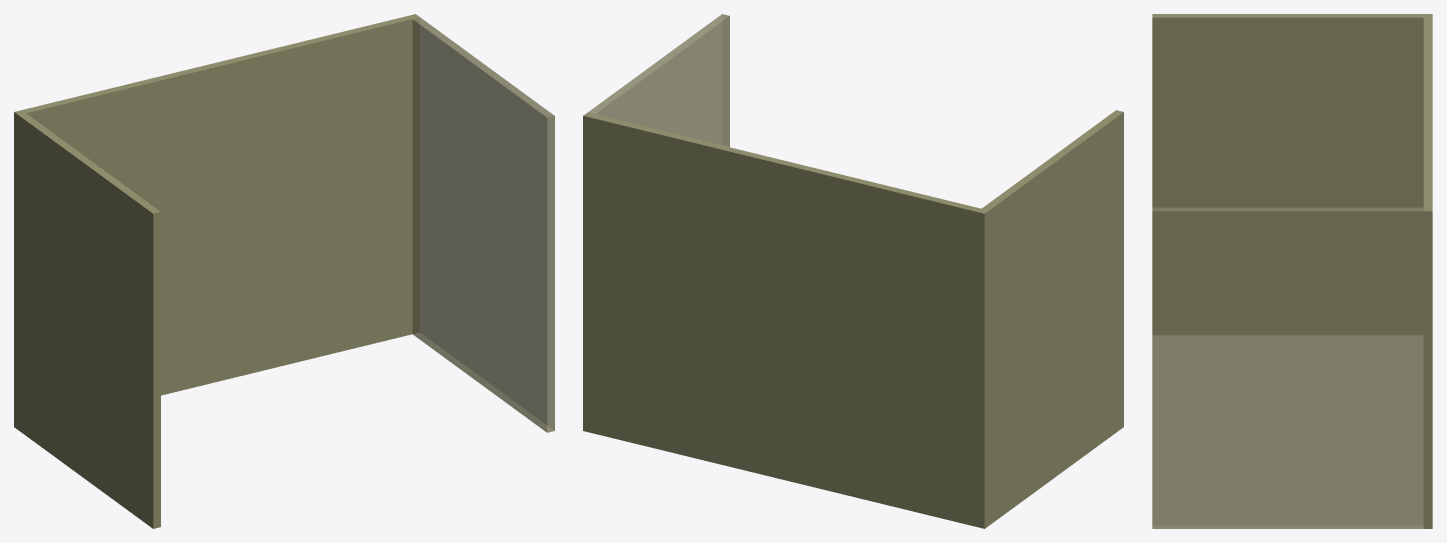
File: TestGltf4Transparency.dae
3 renders of one model, left to right at view 1: azimuth 30°, elevation 25°; view 2: azimuth 150°, elevation 25°; view 3: azimuth 270°, elevation 25°, orthographic.
Visible parts, largest first — view 1: {9B914EC8-FF25-4add-834C-FE20E21041BC}_Node, {A38A591F-DD13-4cbc-A842-138965274C72}_Node, {E1248EB0-9B30-49e5-A715-3F4185C9F774}_Node; view 2: {9B914EC8-FF25-4add-834C-FE20E21041BC}_Node, {A38A591F-DD13-4cbc-A842-138965274C72}_Node, {E1248EB0-9B30-49e5-A715-3F4185C9F774}_Node; view 3: {E1248EB0-9B30-49e5-A715-3F4185C9F774}_Node, {A38A591F-DD13-4cbc-A842-138965274C72}_Node, {9B914EC8-FF25-4add-834C-FE20E21041BC}_Node.
Part boxes in pixels (x1,y1,x2,y2): {9B914EC8-FF25-4add-834C-FE20E21041BC}_Node: (14,14,419,429); {A38A591F-DD13-4cbc-A842-138965274C72}_Node: (14,110,160,528); {E1248EB0-9B30-49e5-A715-3F4185C9F774}_Node: (411,14,554,432); {9B914EC8-FF25-4add-834C-FE20E21041BC}_Node: (583,112,988,528); {A38A591F-DD13-4cbc-A842-138965274C72}_Node: (977,110,1123,527); {E1248EB0-9B30-49e5-A715-3F4185C9F774}_Node: (583,14,729,432); {E1248EB0-9B30-49e5-A715-3F4185C9F774}_Node: (1152,207,1432,528); {A38A591F-DD13-4cbc-A842-138965274C72}_Node: (1152,14,1432,334); {9B914EC8-FF25-4add-834C-FE20E21041BC}_Node: (1423,14,1432,528).
Size of the model in its own units: 1 by 0.75 by 0.6.
